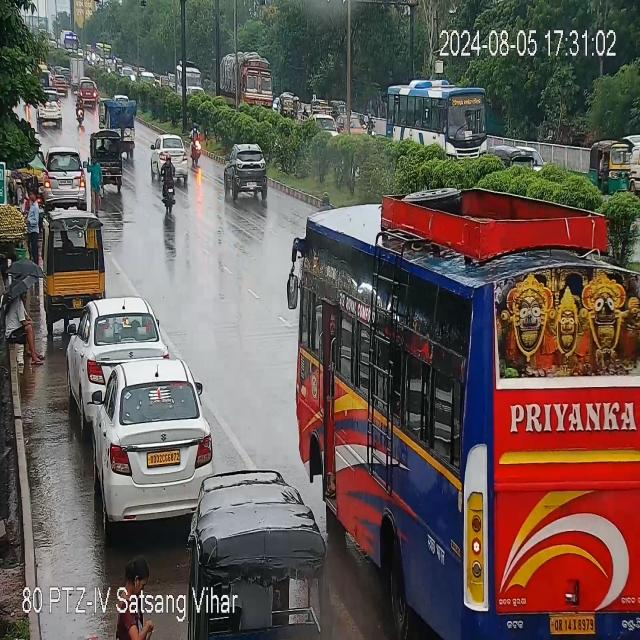2-wheelers: (160, 156, 175, 213), (191, 124, 201, 167)
auto: (189, 471, 325, 580), (42, 211, 105, 332), (589, 140, 630, 194), (90, 129, 122, 193)
bus: (291, 189, 640, 638), (386, 80, 488, 160), (186, 62, 204, 96), (60, 31, 79, 51), (175, 62, 182, 96)
car: (92, 358, 212, 539), (68, 296, 162, 436), (224, 144, 268, 200), (151, 133, 188, 182), (36, 89, 62, 129), (311, 113, 339, 136), (79, 78, 98, 106)
pedestrian: (5, 293, 44, 364), (28, 187, 39, 264), (88, 156, 102, 216)
truck: (238, 51, 272, 108), (99, 98, 136, 130), (220, 53, 236, 99), (70, 58, 84, 89)
